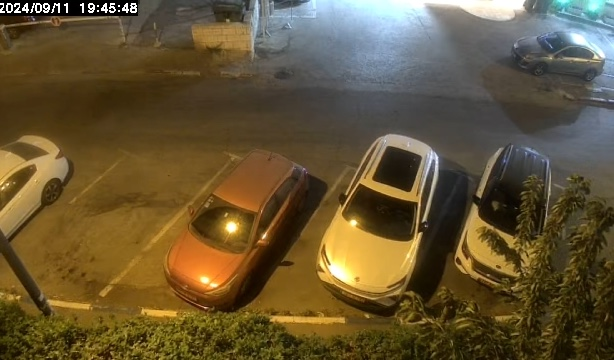empty: (66, 139, 164, 308)
